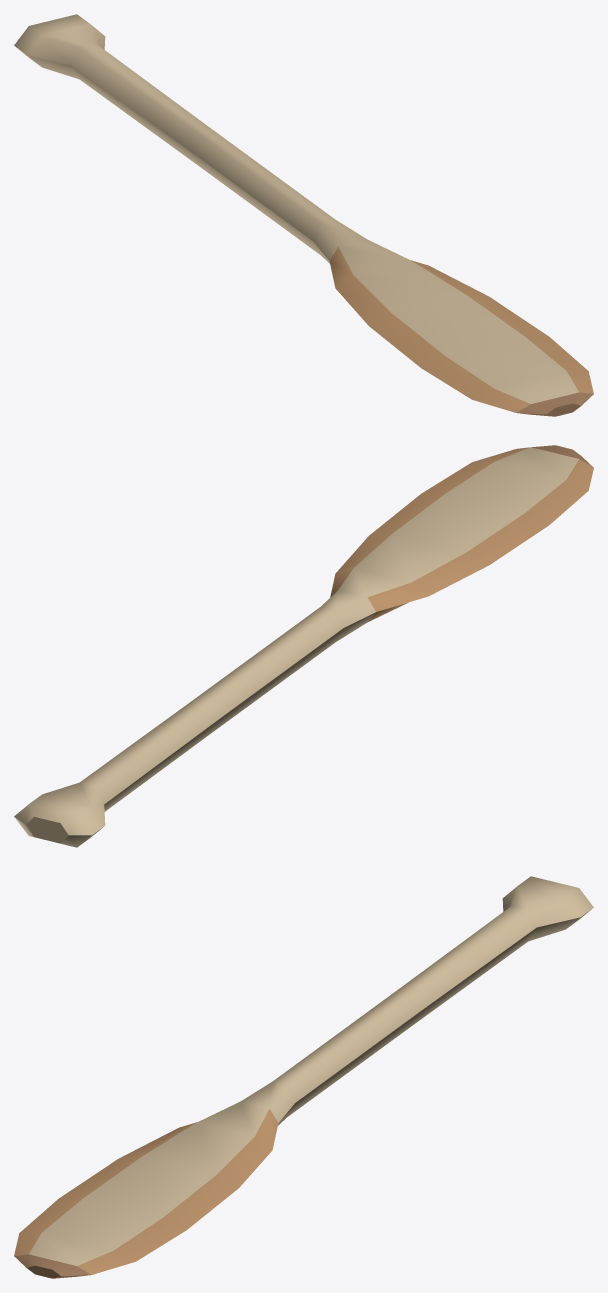
File: CanoePaddlePlain.glb
3 renders of one model, top to bottom at view 1: azimuth 30°, elevation 25°; view 2: azimuth 150°, elevation 25°; view 3: azimuth 330°, elevation 25°, orthographic.
Visible parts, largest first — view 1: CanoePaddlePlain; view 2: CanoePaddlePlain; view 3: CanoePaddlePlain.
Boxes of the visible parts, x1,y1,x2,y2 form: CanoePaddlePlain: (14, 14, 593, 416); CanoePaddlePlain: (14, 445, 593, 847); CanoePaddlePlain: (14, 876, 593, 1278).
Size of the model in its own units: 0.66 by 0.156 by 4.6.
